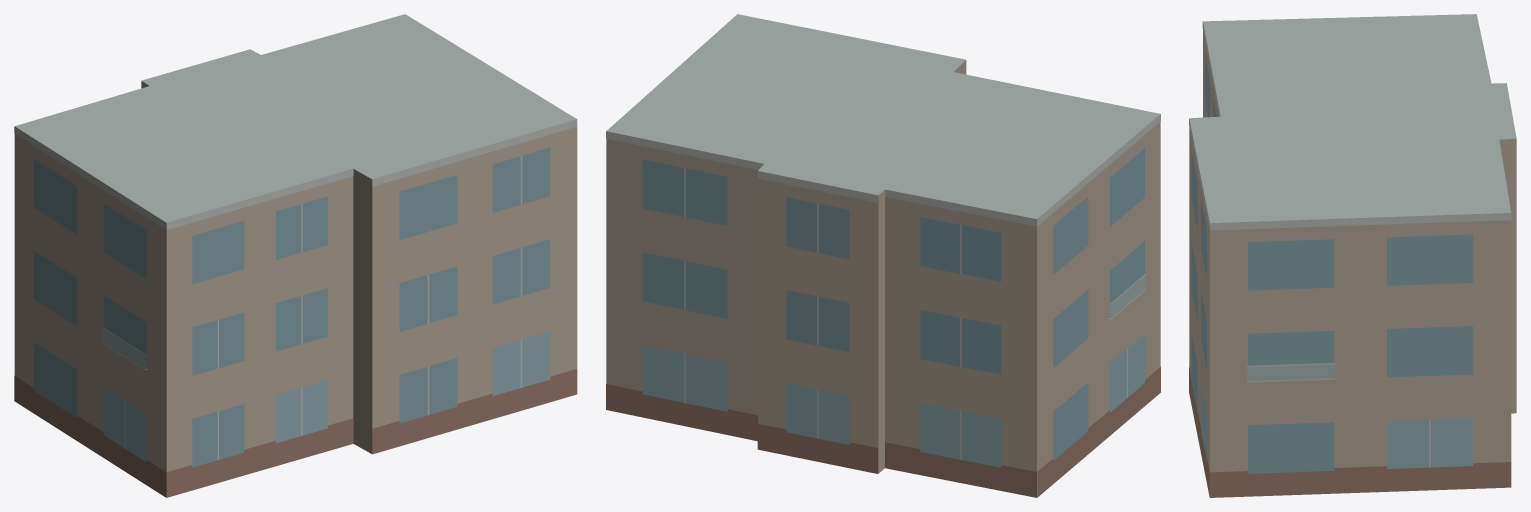
Rendered from survey-upis-32751247.glb.
3 views of the same model, side by side, from view 1: azimuth 30°, elevation 25°; view 2: azimuth 150°, elevation 25°; view 3: azimuth 270°, elevation 25° (orthographic).
Parts seen in each view (by area): view 1: survey-upis-32751247.tmp; view 2: survey-upis-32751247.tmp; view 3: survey-upis-32751247.tmp.
Part boxes in pixels (<box>): survey-upis-32751247.tmp: <box>14,14,577,497</box>; survey-upis-32751247.tmp: <box>606,14,1160,497</box>; survey-upis-32751247.tmp: <box>1189,14,1516,497</box>.
Bounding box in the file's own units: 14.95 × 9.15 × 9.89.
